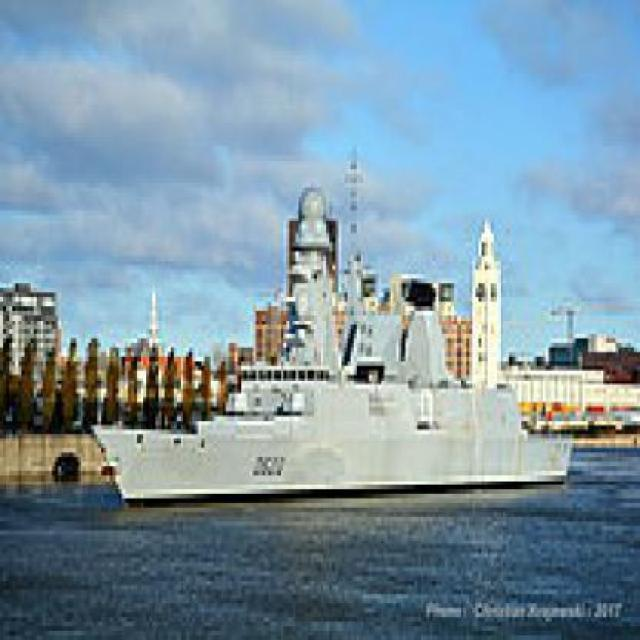warship2: (102, 138, 571, 513)
